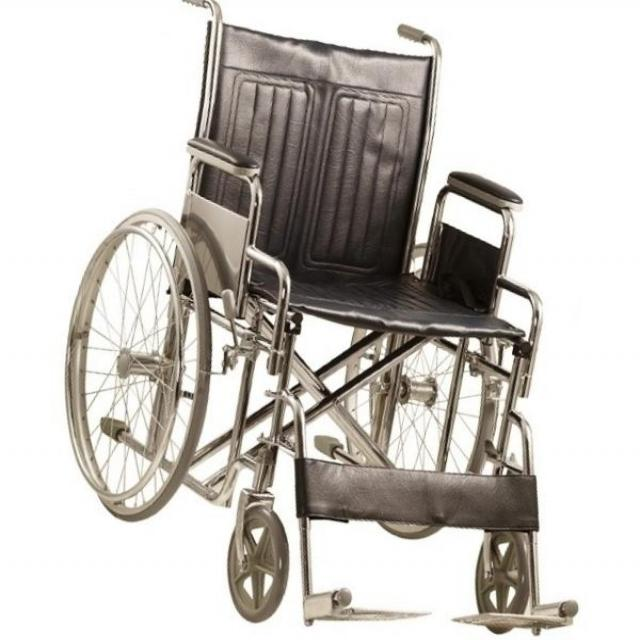wheelchair: (39, 0, 604, 640)
